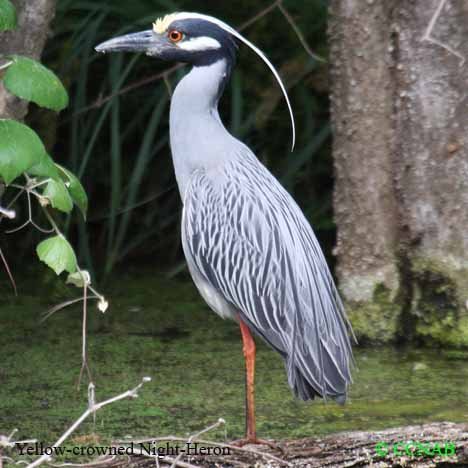heron: (93, 10, 364, 445)
